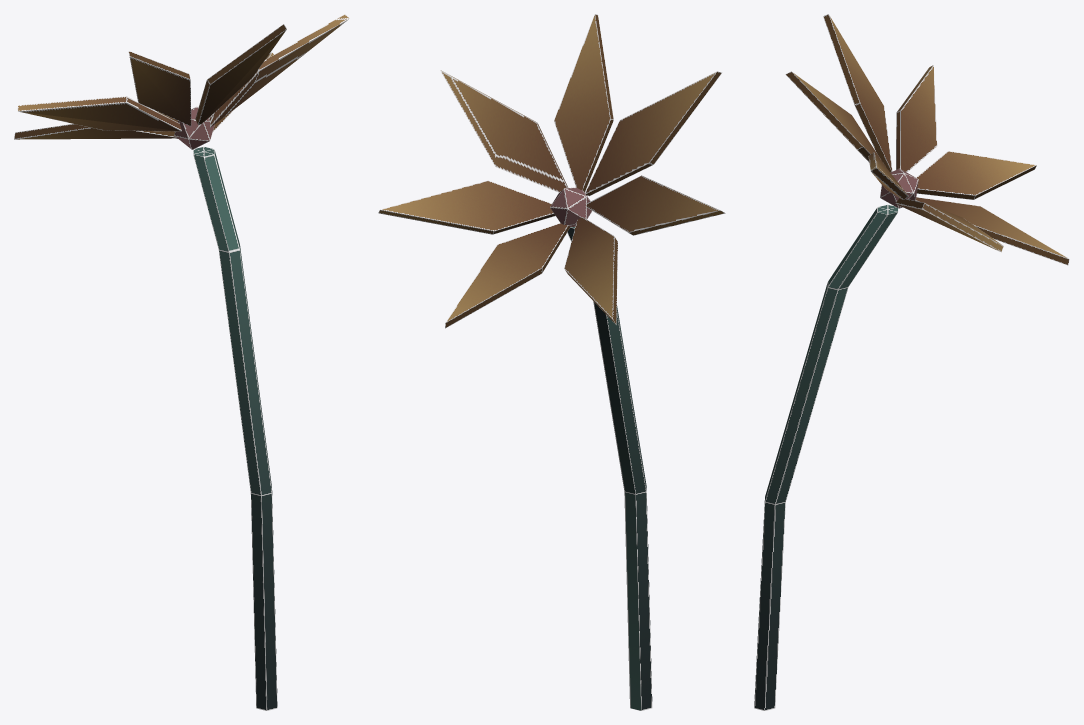
Rendered from Flor Curva 4.obj.
3 views of the same model, side by side, from view 1: azimuth 30°, elevation 25°; view 2: azimuth 150°, elevation 25°; view 3: azimuth 270°, elevation 25° (orthographic). The views are drawn at different scales.
Visible parts, largest first — view 1: Flor Curva 4; view 2: Flor Curva 4; view 3: Flor Curva 4.
Part boxes in pixels (x1,y1,x2,y2): Flor Curva 4: (14, 14, 349, 710); Flor Curva 4: (378, 14, 725, 710); Flor Curva 4: (754, 14, 1069, 710).
Bounding box in the file's own units: 0.3127 × 0.6563 × 0.2889.
1 material, 1 textured.
